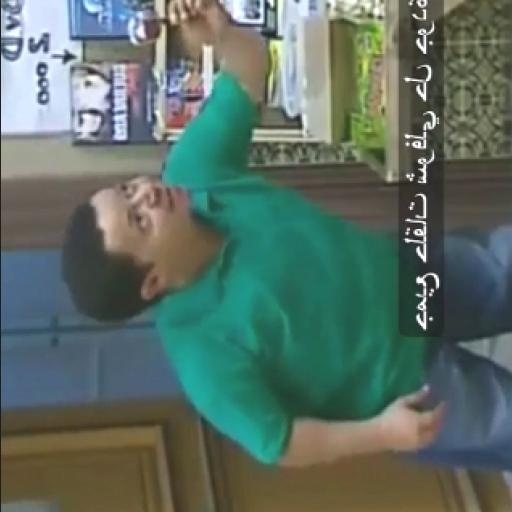fouchika: (60, 176, 193, 321)
